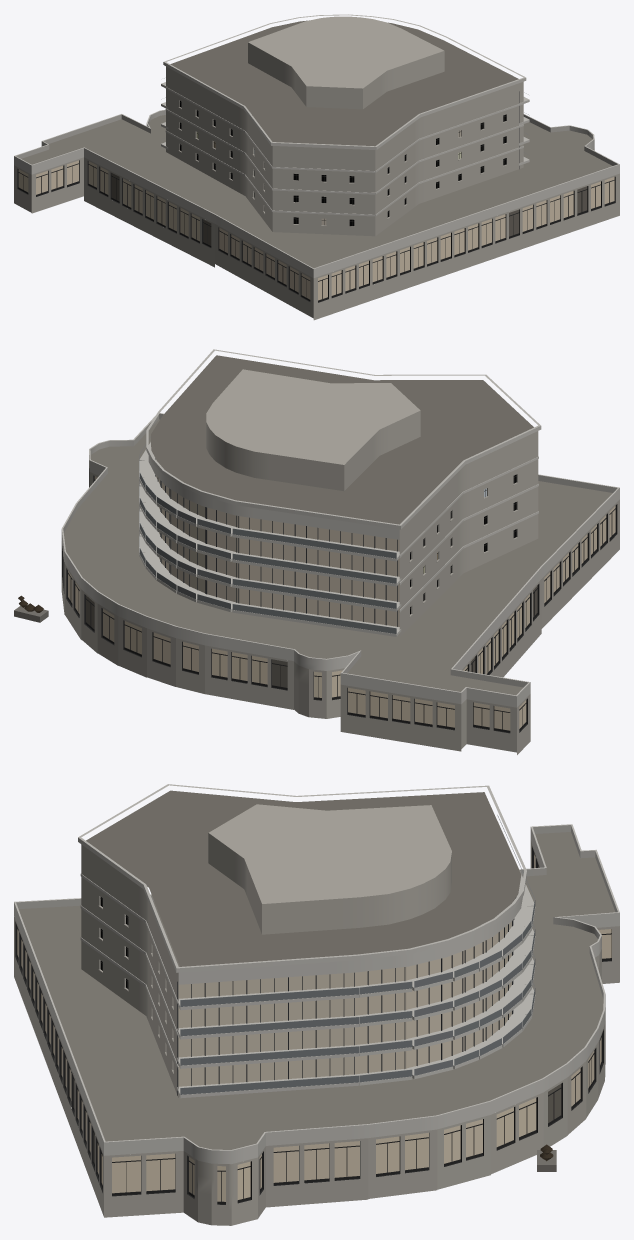
The model's file is davies_lod0.glb.
The picture shows the model from 3 angles, top to bottom: view 1: azimuth 30°, elevation 25°; view 2: azimuth 150°, elevation 25°; view 3: azimuth 270°, elevation 25°; orthographic projection. The views are drawn at different scales.
Parts seen in each view (by area): view 1: L0_concrete, L0_roof, L0_shop, L0_metal, L0_win; view 2: L0_concrete, L0_roof, L0_metal, L0_win, L0_shop; view 3: L0_concrete, L0_roof, L0_win, L0_metal, L0_shop.
Part boxes in pixels (box(x1,y1,x2,y2)): L0_concrete: box(14, 14, 619, 320); L0_roof: box(21, 20, 612, 268); L0_shop: box(18, 160, 614, 300); L0_metal: box(17, 78, 615, 302); L0_win: box(179, 101, 506, 226); L0_concrete: box(61, 349, 619, 754); L0_roof: box(64, 355, 612, 695); L0_metal: box(18, 436, 617, 733); L0_win: box(156, 474, 516, 634); L0_shop: box(68, 476, 615, 730); L0_concrete: box(14, 784, 619, 1225); L0_roof: box(18, 790, 615, 1149); L0_win: box(100, 897, 513, 1086); L0_metal: box(15, 815, 611, 1204); L0_shop: box(17, 854, 611, 1201).
Size of the model in its own units: 110 by 35.95 by 86.19.
